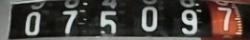digits: (141, 6, 158, 31), (180, 9, 197, 34), (61, 10, 78, 34), (24, 12, 41, 36), (216, 6, 232, 30), (100, 10, 116, 32)
